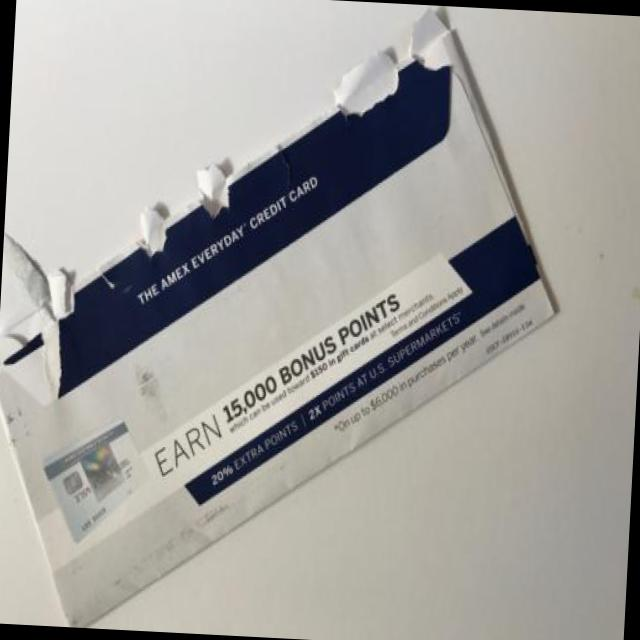paper: (0, 15, 553, 626)
